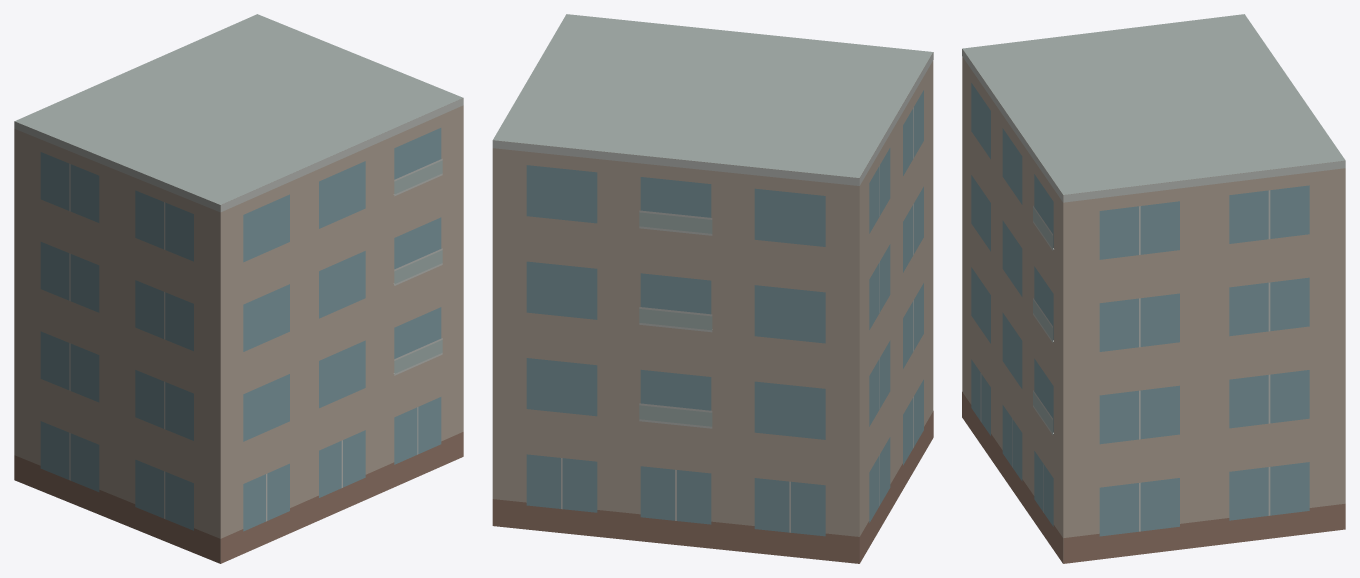
The model's file is survey-upis-32709720.glb.
3 views of the same model, side by side, from view 1: azimuth 30°, elevation 25°; view 2: azimuth 150°, elevation 25°; view 3: azimuth 270°, elevation 25° (orthographic). The views are drawn at different scales.
Parts seen in each view (by area): view 1: survey-upis-32709720.tmp; view 2: survey-upis-32709720.tmp; view 3: survey-upis-32709720.tmp.
Part boxes in pixels (box(x1,y1,x2,y2)): survey-upis-32709720.tmp: box(14, 14, 463, 563); survey-upis-32709720.tmp: box(492, 14, 933, 563); survey-upis-32709720.tmp: box(962, 14, 1345, 563).
Bounding box in the file's own units: 12.43 × 11.8 × 11.13.
